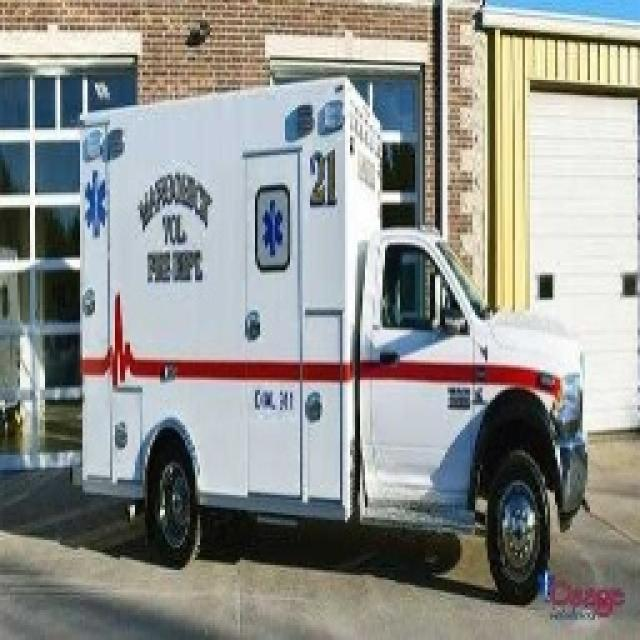emergency-vehicle: (8, 45, 620, 576)
